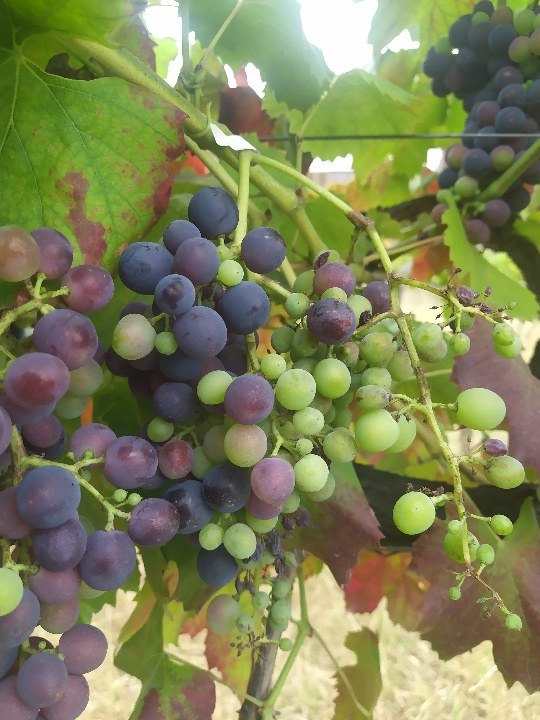grape: (108, 183, 340, 666), (305, 247, 526, 633)
